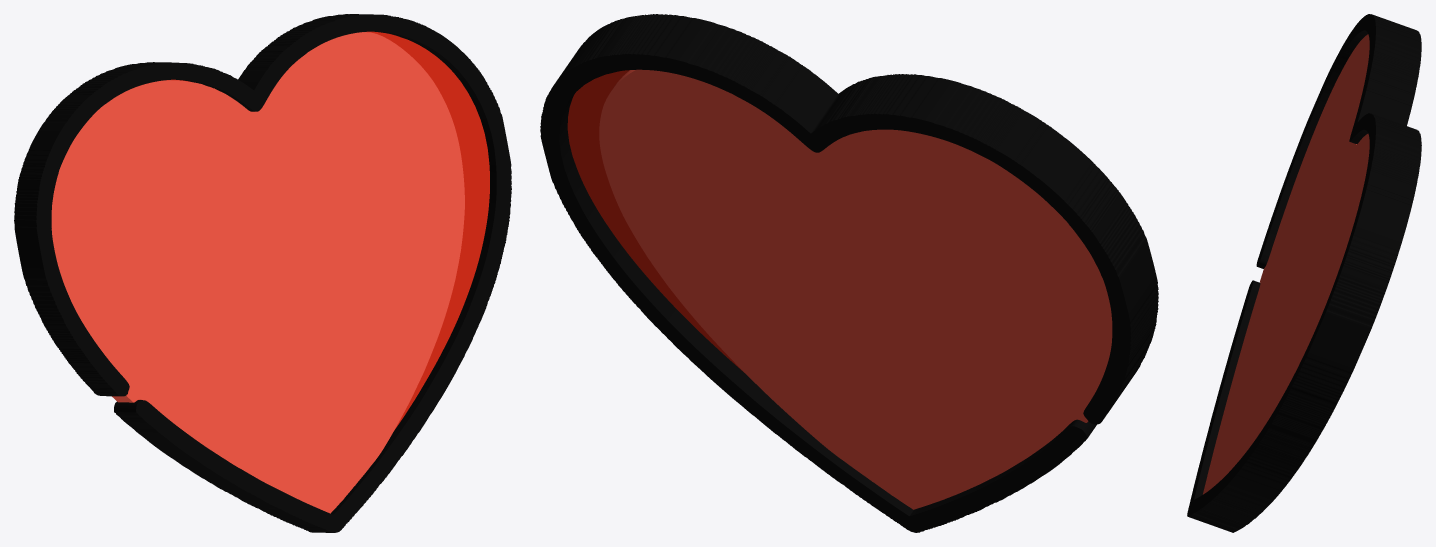
The model's file is romance.gltf.
The picture shows the model from 3 angles, left to right: view 1: azimuth 30°, elevation 25°; view 2: azimuth 150°, elevation 25°; view 3: azimuth 270°, elevation 25°; orthographic projection. The views are drawn at different scales.
Parts seen in each view (by area): view 1: path1, path0, path2; view 2: path1, path0, path2; view 3: path0, path1.
Boxes of the visible parts, <box> form: path1: <box>51,32,464,513</box>; path0: <box>14,14,511,532</box>; path2: <box>138,31,489,430</box>; path1: <box>599,69,1112,509</box>; path0: <box>540,14,1158,532</box>; path2: <box>567,70,744,372</box>; path0: <box>1187,14,1421,532</box>; path1: <box>1203,34,1369,494</box>.
Size of the model in its own units: 0.1128 by 0.1016 by 0.0478.
